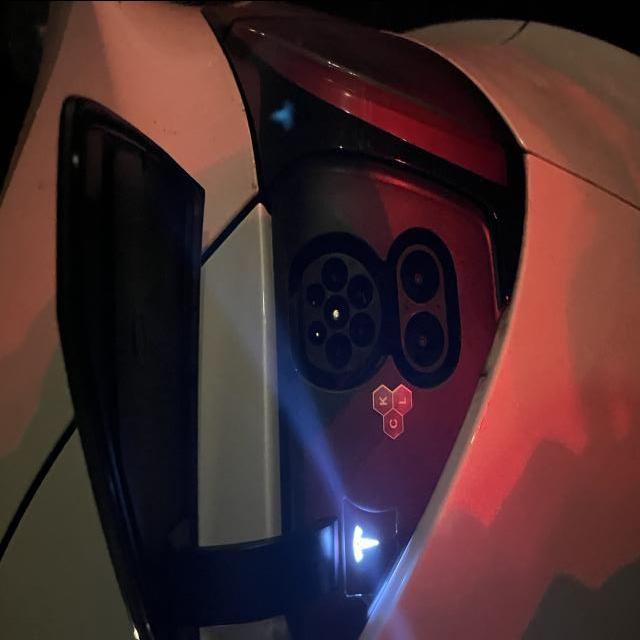inlet: (302, 252, 381, 372)
inlet-above-left: (308, 318, 327, 345)
inlet-above-right: (306, 281, 325, 306)
inlet-below-left: (349, 311, 375, 346)
inlet-below-right: (346, 274, 373, 308)
inlet-center: (323, 294, 350, 329)
inlet-center-left: (325, 332, 351, 367)
inlet-center-right: (321, 256, 349, 291)
